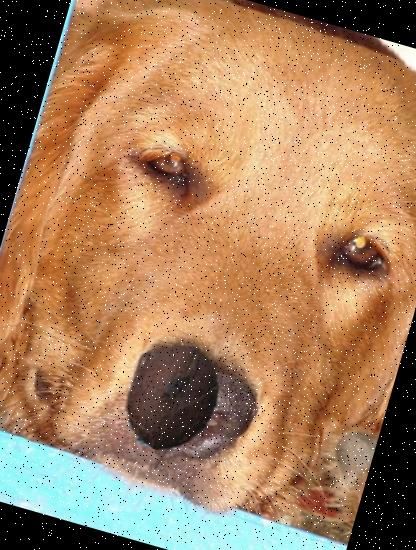Cocos: (104, 329, 241, 466)
